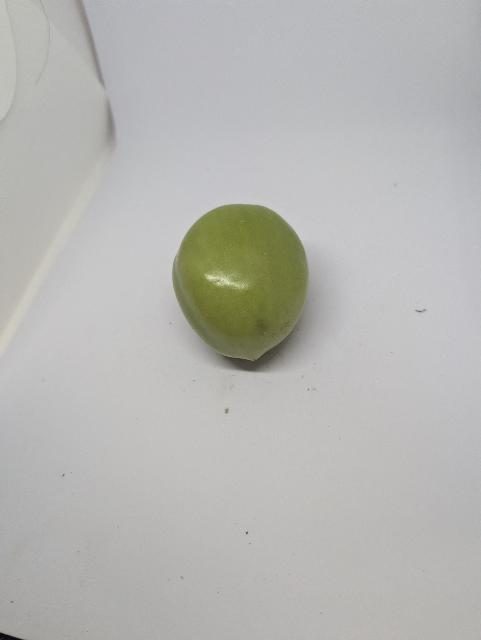green: (170, 202, 312, 365)
